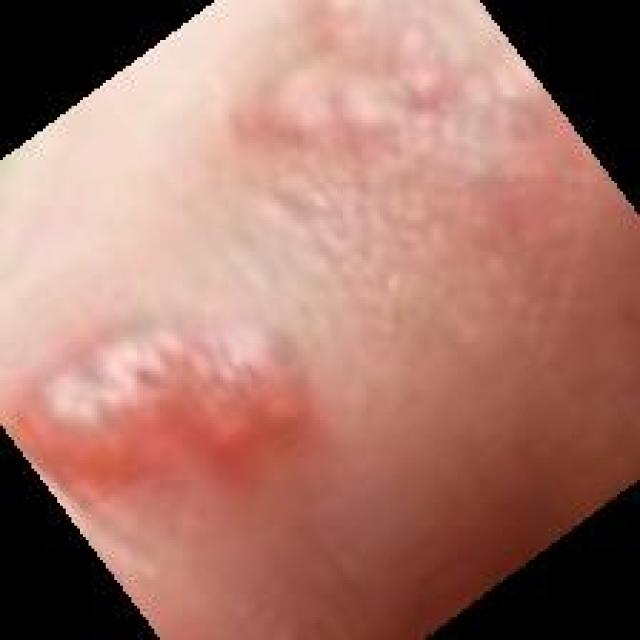monkeypox: (57, 51, 554, 622)
